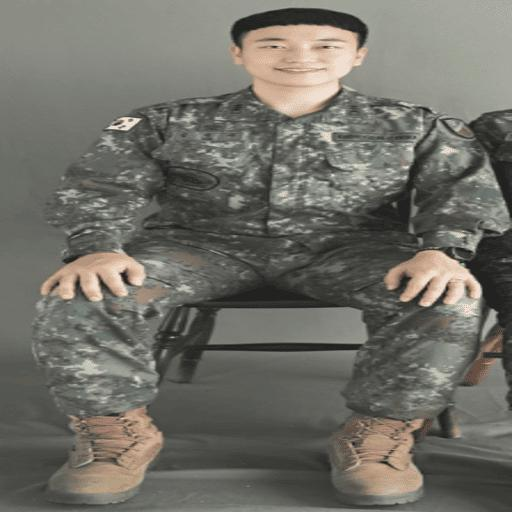korea army: (32, 7, 510, 506)
